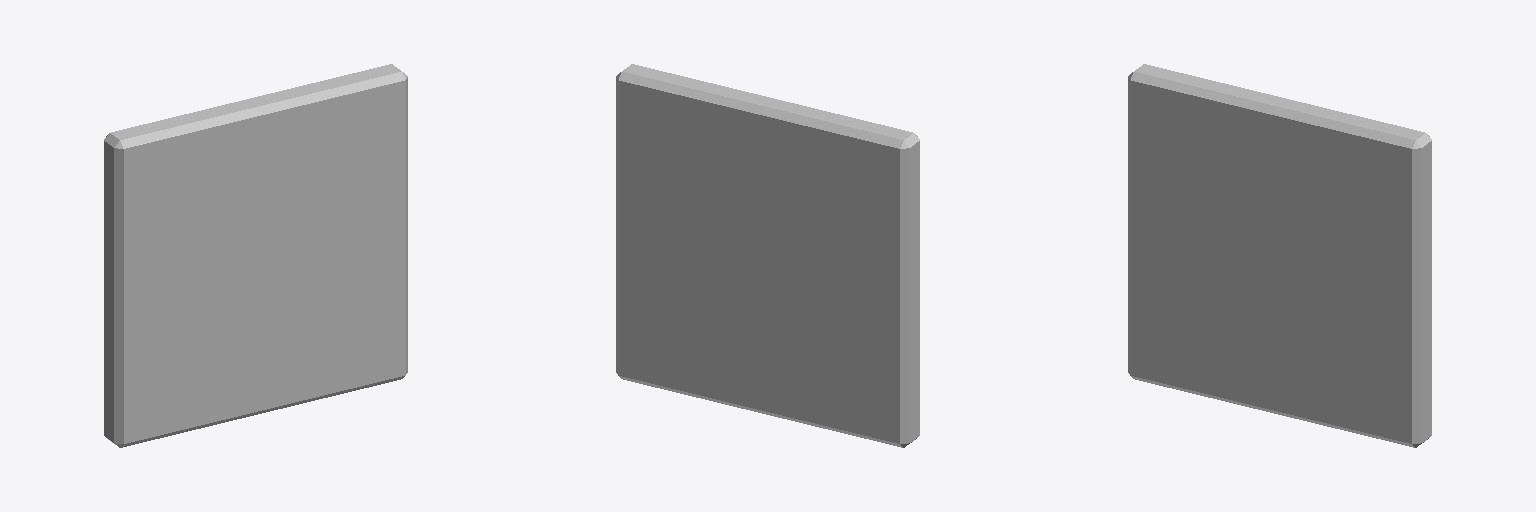
Rendered from panel_1x1.obj.
3 renders of one model, left to right at view 1: azimuth 30°, elevation 25°; view 2: azimuth 150°, elevation 25°; view 3: azimuth 330°, elevation 25°, orthographic.
Visible parts, largest first — view 1: 1x1_white_geo_Plane.001; view 2: 1x1_white_geo_Plane.001; view 3: 1x1_white_geo_Plane.001.
Part boxes in pixels (x1,y1,x2,y2): 1x1_white_geo_Plane.001: (104,64,407,447); 1x1_white_geo_Plane.001: (616,64,919,447); 1x1_white_geo_Plane.001: (1128,64,1431,447).
Bounding box in the file's own units: 0.98 × 0.98 × 0.1.